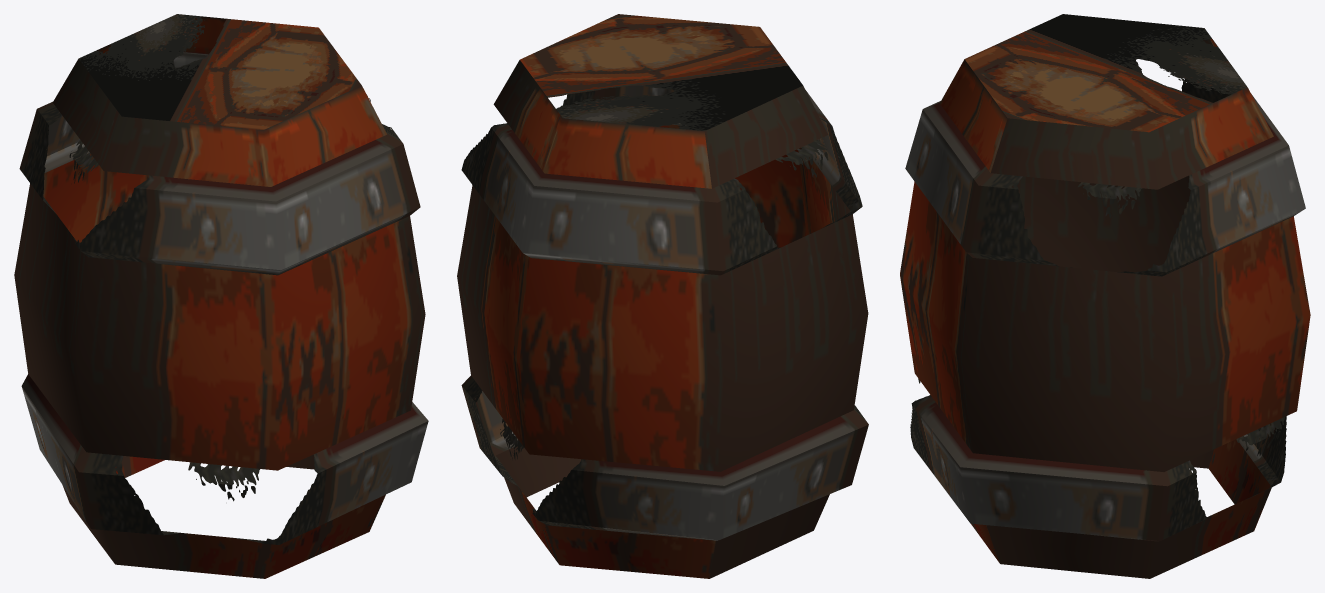
Rendered from barrel_explosive_01_8768581b.glb.
3 renders of one model, left to right at view 1: azimuth 30°, elevation 25°; view 2: azimuth 150°, elevation 25°; view 3: azimuth 270°, elevation 25°, orthographic.
Size of the model in its own units: 0.8741 by 1.07 by 0.8984.
1 material, 1 textured.
